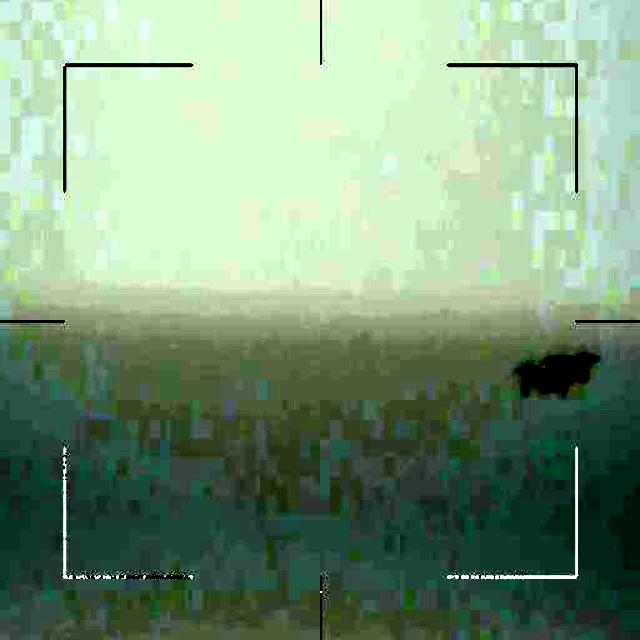bird: (519, 354, 589, 401)
